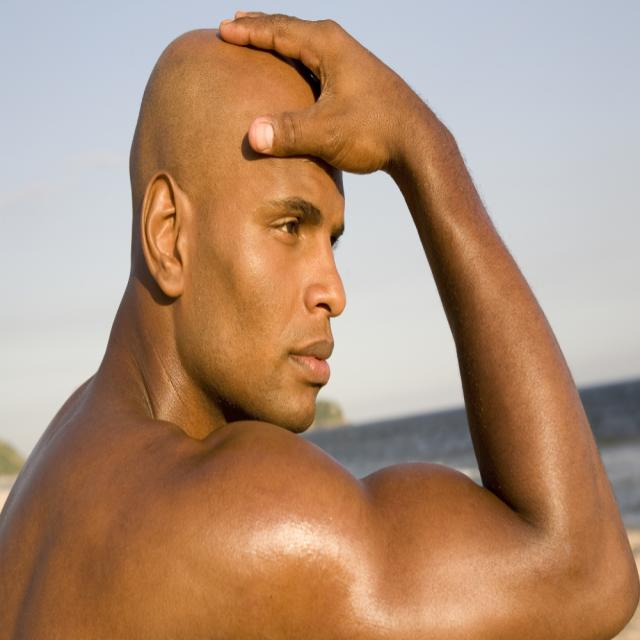bald: (102, 11, 356, 259)
